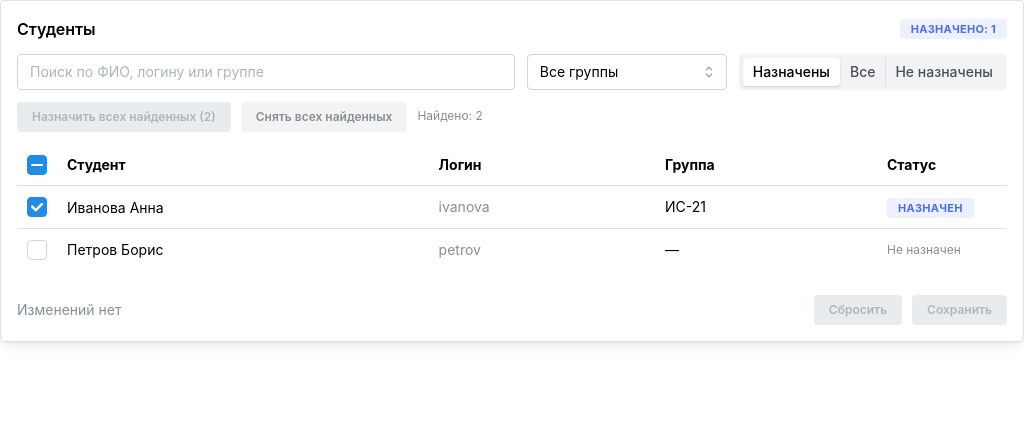
StudentAssignmentCard › показывает ошибку, если сервер отказал в сохранении
This screenshot has width=1024, height=430.
Click the checkbox named "Назначить: Петров Борис" at (37, 250), box [27, 240, 47, 260]
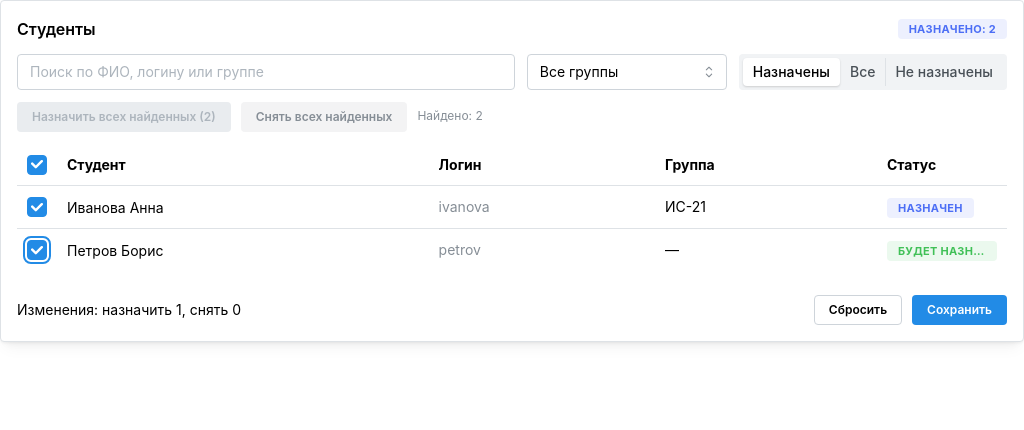
Click the button "Сохранить" at (960, 310), box [912, 296, 1007, 326]
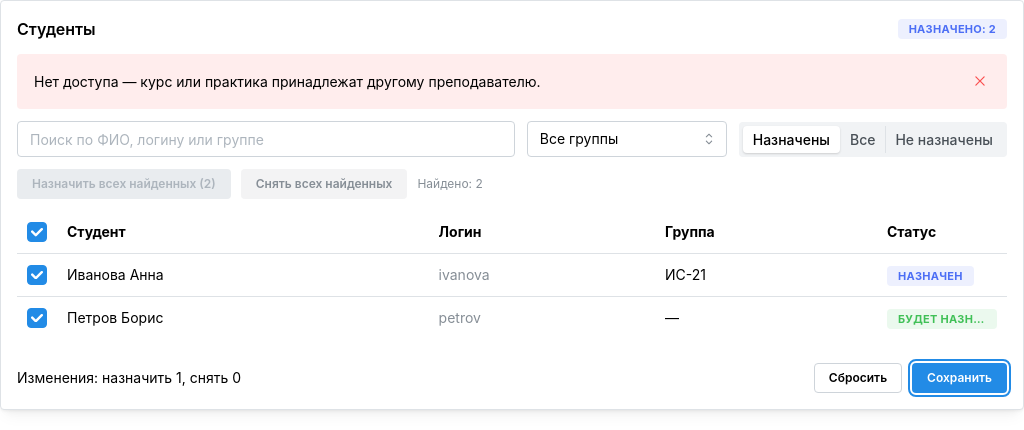
expect the text "Изменения: назначить 1, снять 0" is shown: met, box [17, 368, 241, 388]
expect the text "принадлежат другому преподавателю" is shown: met, box [34, 73, 541, 90]
